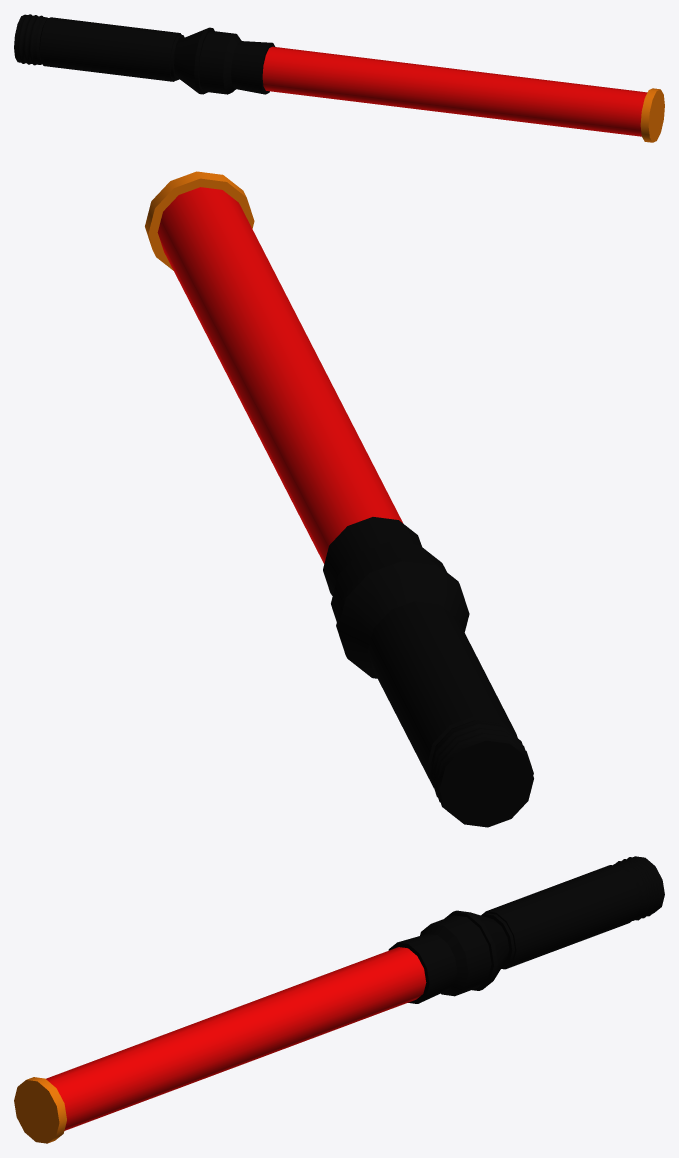
The model's file is WEAPON_HIGH_THROW.fbx.
3 renders of one model, top to bottom at view 1: azimuth 30°, elevation 25°; view 2: azimuth 150°, elevation 25°; view 3: azimuth 270°, elevation 25°, orthographic. The views are drawn at different scales.
Visible parts, largest first — view 1: WEAPON1; view 2: WEAPON1; view 3: WEAPON1.
Boxes of the visible parts, <box> form: WEAPON1: <box>14,14,664,142</box>; WEAPON1: <box>145,171,533,827</box>; WEAPON1: <box>14,856,664,1143</box>.
Size of the model in its own units: 7.28 by 1.01 by 7.84.
